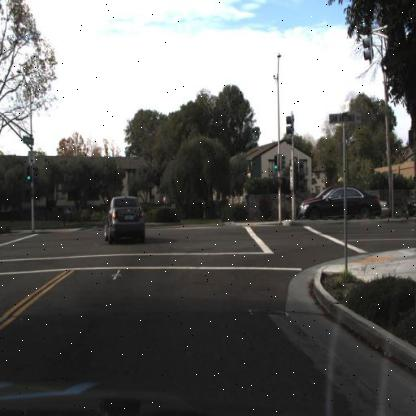car: (294, 181, 386, 233), (266, 184, 324, 233), (102, 192, 146, 255)
trafficLight-Green: (23, 163, 31, 185), (273, 153, 279, 171)
